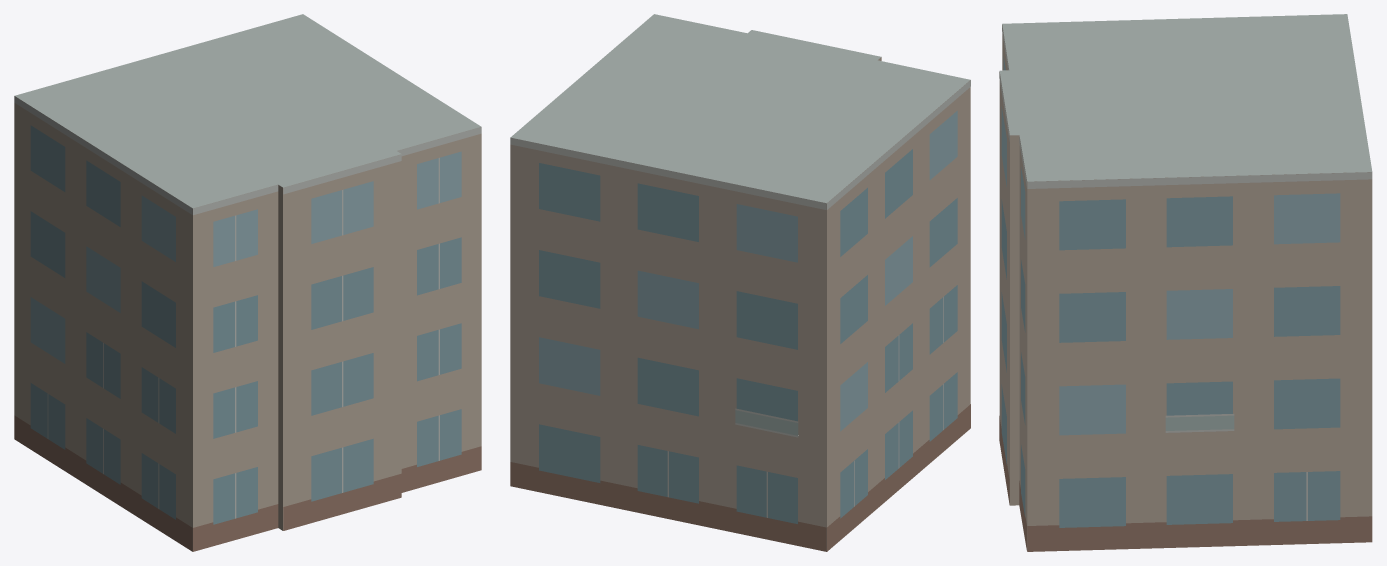
File: survey-upis-32920946.glb
3 renders of one model, left to right at view 1: azimuth 30°, elevation 25°; view 2: azimuth 150°, elevation 25°; view 3: azimuth 270°, elevation 25°, orthographic. The views are drawn at different scales.
Parts seen in each view (by area): view 1: survey-upis-32920946.tmp; view 2: survey-upis-32920946.tmp; view 3: survey-upis-32920946.tmp.
Boxes of the visible parts, x1,y1,x2,y2 form: survey-upis-32920946.tmp: (14,14,481,551); survey-upis-32920946.tmp: (510,14,970,551); survey-upis-32920946.tmp: (999,14,1372,551).
Bounding box in the file's own units: 11.86 × 12.2 × 11.15.
